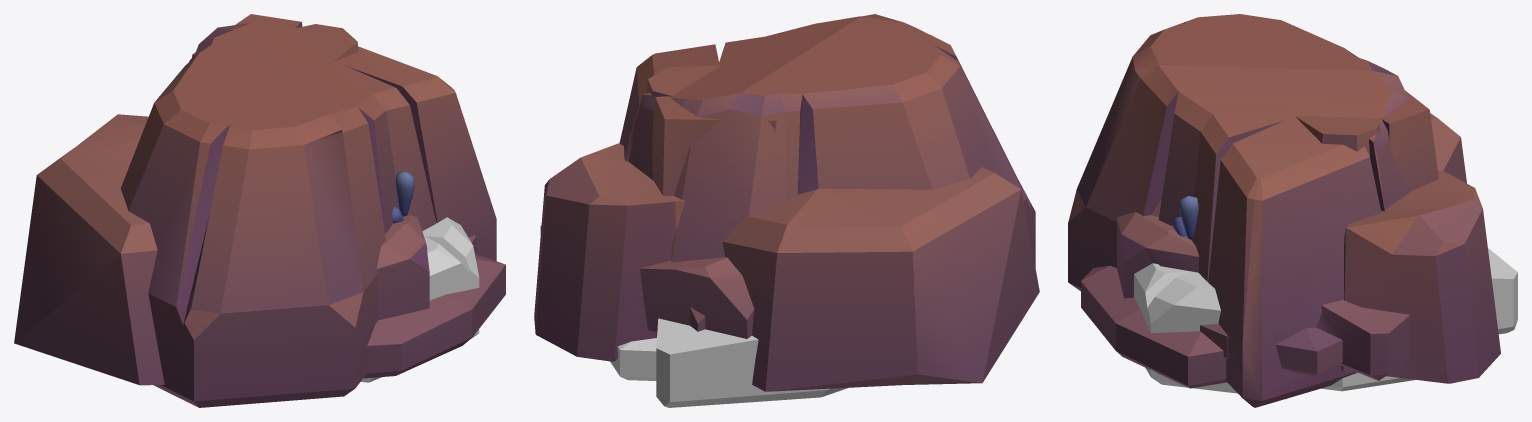
The model's file is Rocks.fbx.
The picture shows the model from 3 angles, left to right: view 1: azimuth 30°, elevation 25°; view 2: azimuth 150°, elevation 25°; view 3: azimuth 270°, elevation 25°; orthographic projection. The views are drawn at different scales.
Visible parts, largest first — view 1: Rock02, Rock03, Rock01; view 2: Rock02, Rock03, Rock01; view 3: Rock02, Rock03, Rock01.
Boxes of the visible parts, left/top/right/bottom form: Rock02: left=14, top=23, right=505, bottom=407; Rock03: left=192, top=14, right=476, bottom=319; Rock01: left=360, top=217, right=479, bottom=382; Rock02: left=534, top=14, right=1039, bottom=391; Rock03: left=540, top=65, right=776, bottom=338; Rock01: left=610, top=318, right=848, bottom=407; Rock02: left=1068, top=14, right=1500, bottom=407; Rock03: left=1116, top=90, right=1438, bottom=380; Rock01: left=1134, top=248, right=1517, bottom=399.
Size of the model in its own units: 4.18 by 2.48 by 3.87.
